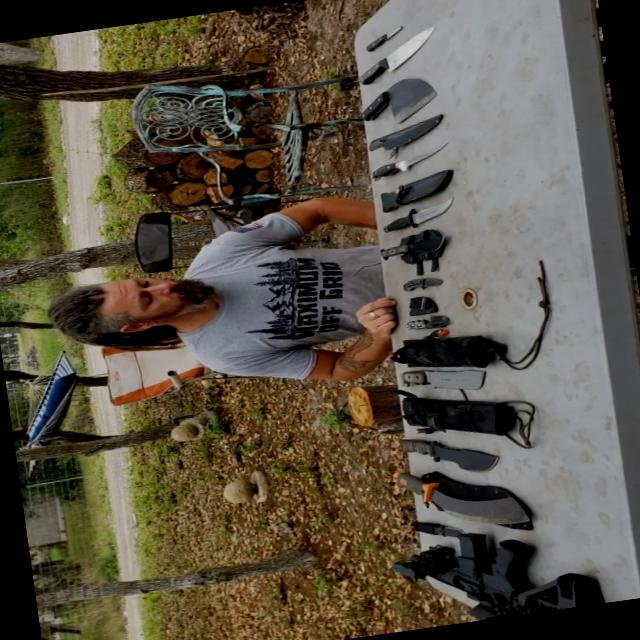knife: (387, 447, 547, 548), (348, 126, 470, 192), (343, 28, 442, 96), (397, 420, 502, 483), (352, 68, 450, 130), (374, 188, 468, 238), (394, 354, 490, 398), (368, 226, 469, 262), (400, 504, 476, 548), (391, 294, 463, 333), (387, 260, 455, 300), (342, 20, 413, 54)
long weapon: (378, 490, 612, 632)
